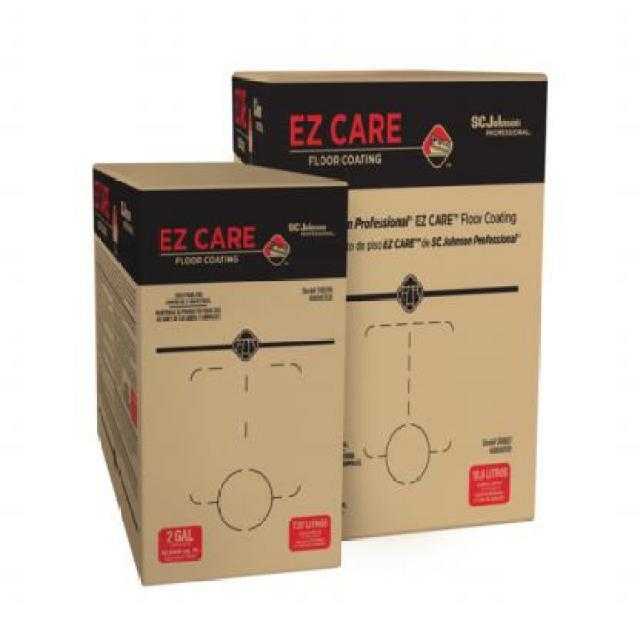box: (232, 62, 551, 542), (82, 154, 349, 592)
